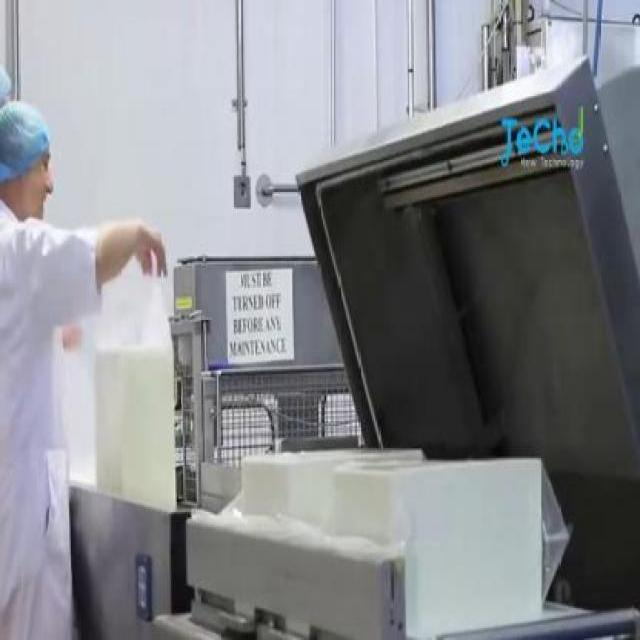bare_hand: (127, 216, 167, 291)
